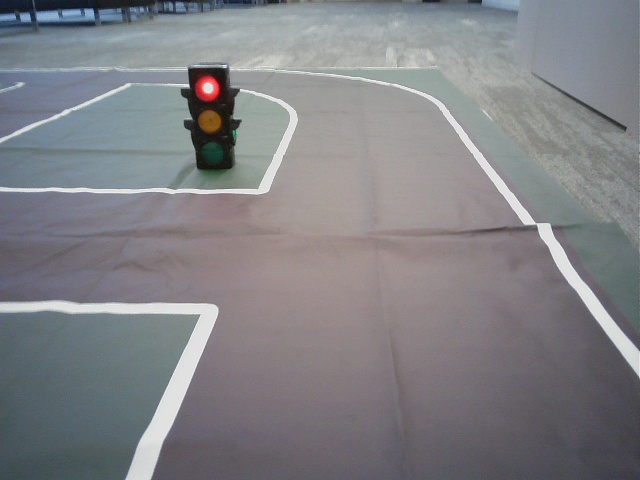red: (193, 72, 228, 167)
